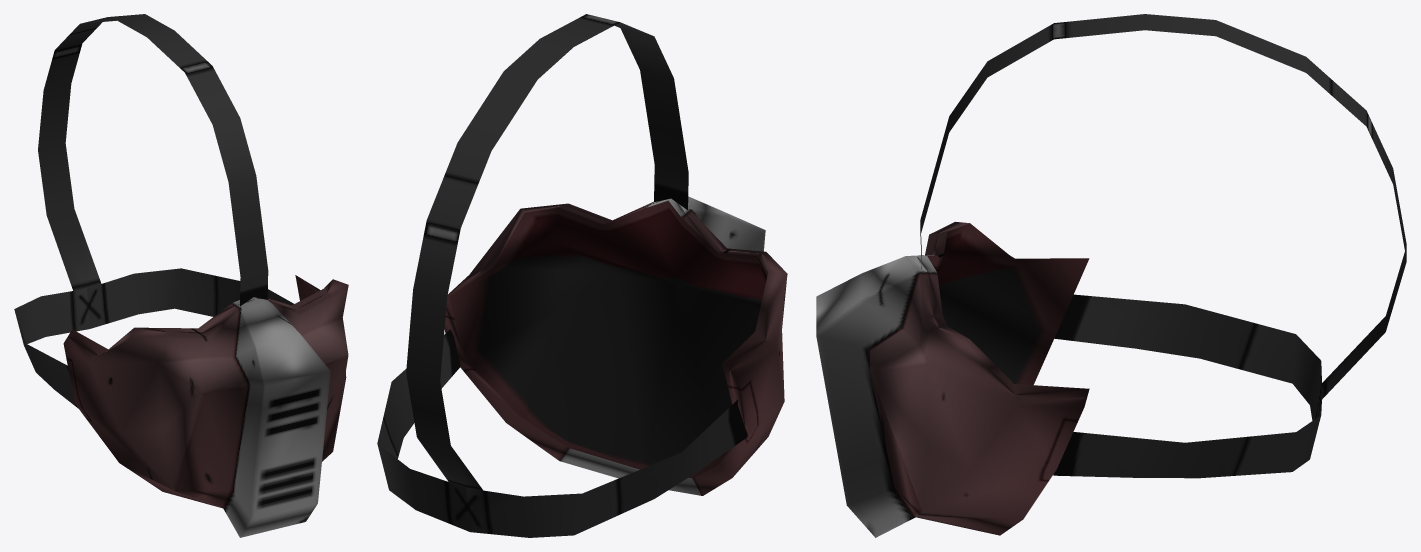
Rendered from mod_gear_face01.fbx.
3 renders of one model, left to right at view 1: azimuth 30°, elevation 25°; view 2: azimuth 150°, elevation 25°; view 3: azimuth 270°, elevation 25°, orthographic. The views are drawn at different scales.
Visible parts, largest first — view 1: mod_gear_face01; view 2: mod_gear_face01; view 3: mod_gear_face01.
Boxes of the visible parts, bbox=[...] form: mod_gear_face01: bbox=[14, 14, 348, 537]; mod_gear_face01: bbox=[377, 14, 787, 537]; mod_gear_face01: bbox=[816, 14, 1406, 537].
Bounding box in the file's own units: 15.63 × 24.69 × 26.62.
